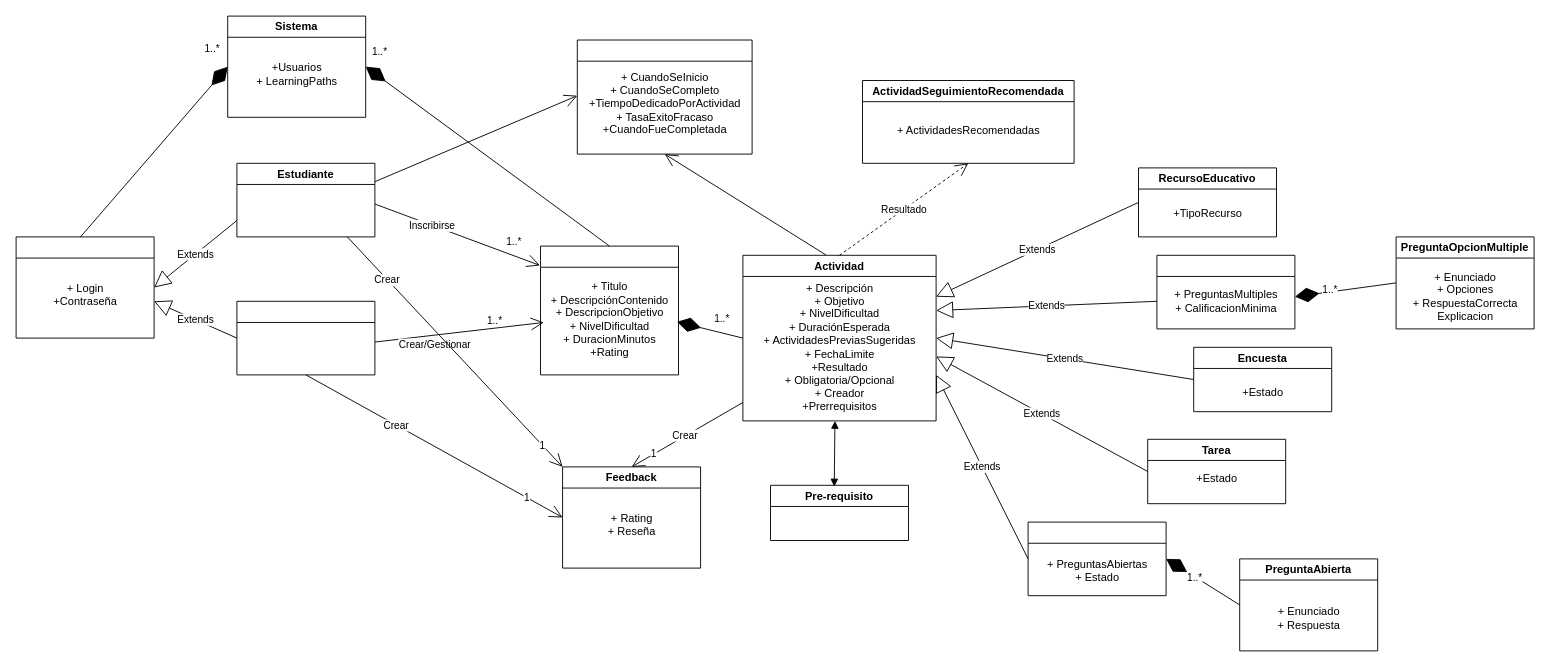
Some shapes in this 1550 by 667 pixel diagram are drawn without their labels. Each missing label, with the box of its shape:
Examen: (1027, 521, 1166, 596)
LearningPath: (540, 245, 678, 375)
Profesor: (236, 300, 375, 375)
ProgresoEstudiante: (576, 39, 752, 154)
Quiz: (1156, 254, 1295, 329)
Usuario: (15, 236, 154, 338)
